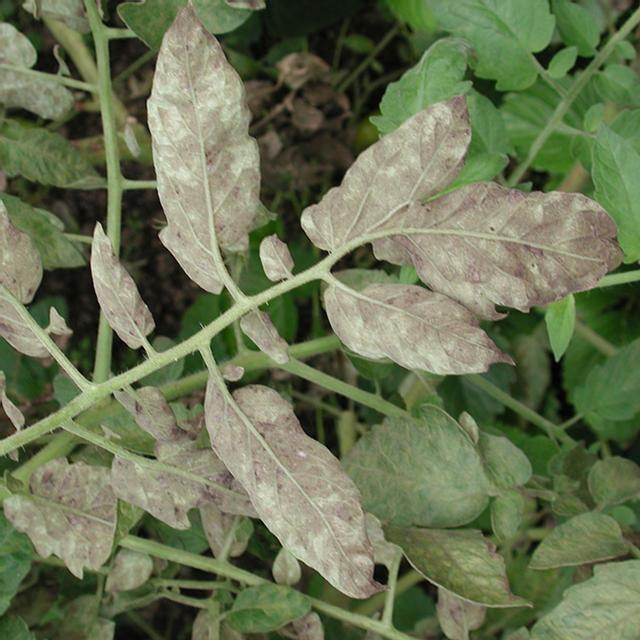Tomato mold leaf: (343, 401, 517, 520), (526, 486, 640, 574), (522, 558, 640, 640), (0, 521, 30, 640)
